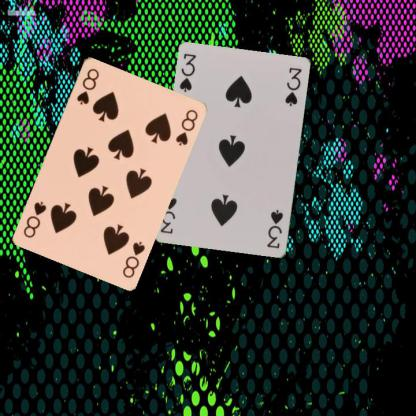3s: (176, 50, 198, 93), (264, 208, 285, 250)
8s: (74, 65, 100, 106), (120, 239, 146, 279)
